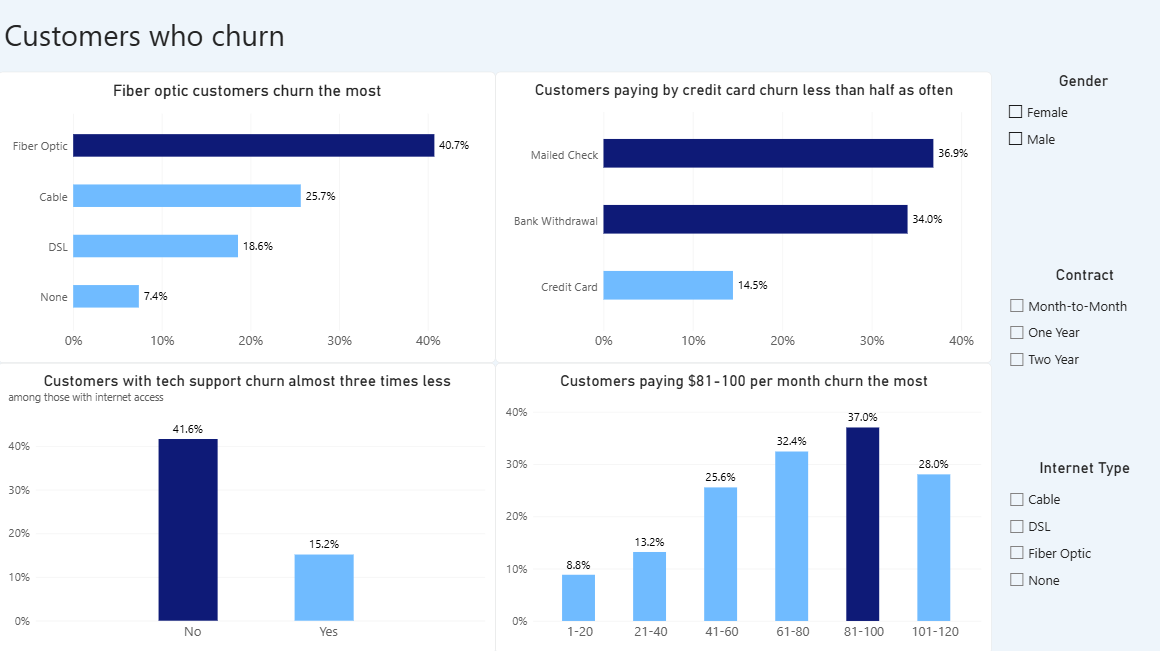

What the dashboard file says about the page in this screenshot:
{"tool":"powerbi","page":{"name":"Who leaves","canvas":[1920,1080],"ordinal":1},"visuals":[{"type":"barChart","title":"Fiber optic customers churn the most","fields":{"Category":["customer_analysis.internet_type"],"Y":["_Measures.churn rate"]},"box":[0,121.4,819.2,479.6],"z":0},{"type":"barChart","title":"Customers paying by credit card churn less than half as often","fields":{"Category":["customer_analysis.payment_method"],"Y":["_Measures.churn rate"]},"box":[819.2,121.4,817.2,479.6],"z":1},{"type":"clusteredColumnChart","title":"Customers with tech support churn almost three times less ","fields":{"Category":["customer_analysis.premium_tech_support"],"Y":["_Measures.churn rate"]},"box":[0,601,819.2,479.6],"z":2},{"type":"clusteredColumnChart","title":"Customers paying $81-100 per month churn the most","fields":{"Category":["customer_analysis.monthly_charge_group"],"Y":["_Measures.churn rate"]},"box":[819.2,601,817.2,479.6],"z":3},{"type":"slicer","title":"Contract","fields":{"Values":["customer_analysis.contract"]},"box":[1659,440.5,261.4,319],"z":4},{"type":"slicer","title":"Internet Type","fields":{"Values":["customer_analysis.internet_type"]},"box":[1659,759.5,261.4,321.1],"z":5},{"type":"slicer","title":"Gender","fields":{"Values":["customer_analysis.gender"]},"box":[1657,121.4,261.4,319],"z":6},{"type":"textbox","box":[10.3,26.8,1908.1,94.7],"z":7}]}

Visuals, with their boxes in screenshot pixels (x1, y1, x2, y2), scaled from the page's 1920x1080 canvas onto the 1160x651 screenshot:
"Fiber optic customers churn the most" barChart: bbox(0, 73, 495, 362)
"Customers paying by credit card churn less than half as often" barChart: bbox(495, 73, 989, 362)
"Customers with tech support churn almost three times less " clusteredColumnChart: bbox(0, 362, 495, 650)
"Customers paying $81-100 per month churn the most" clusteredColumnChart: bbox(495, 362, 989, 650)
"Contract" slicer: bbox(1002, 266, 1159, 458)
"Internet Type" slicer: bbox(1002, 458, 1159, 650)
"Gender" slicer: bbox(1001, 73, 1159, 265)
textbox: bbox(6, 16, 1159, 73)
